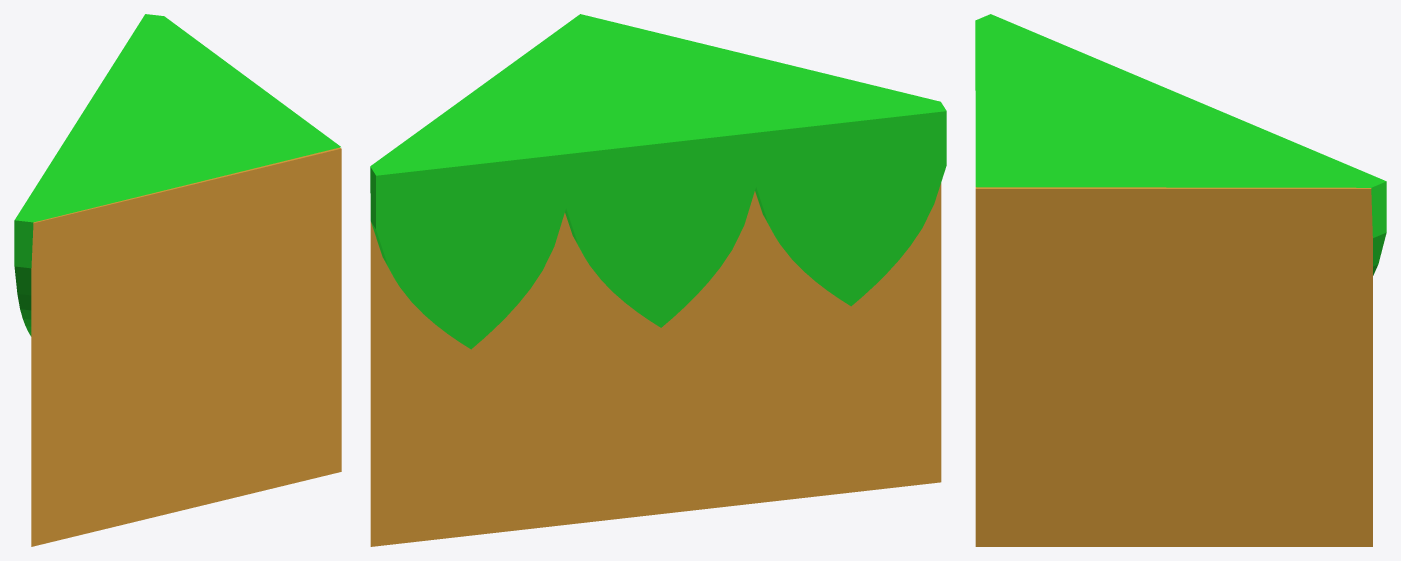
The model's file is Corner.fbx.
3 renders of one model, left to right at view 1: azimuth 30°, elevation 25°; view 2: azimuth 150°, elevation 25°; view 3: azimuth 270°, elevation 25°, orthographic. The views are drawn at different scales.
Parts seen in each view (by area): view 1: Dirtblock.002; view 2: Dirtblock.002; view 3: Dirtblock.002.
Part boxes in pixels (x1,y1,x2,y2): Dirtblock.002: (14,14,341,546); Dirtblock.002: (370,14,946,546); Dirtblock.002: (975,14,1386,546).
Size of the model in its own units: 104 by 99.97 by 104.
